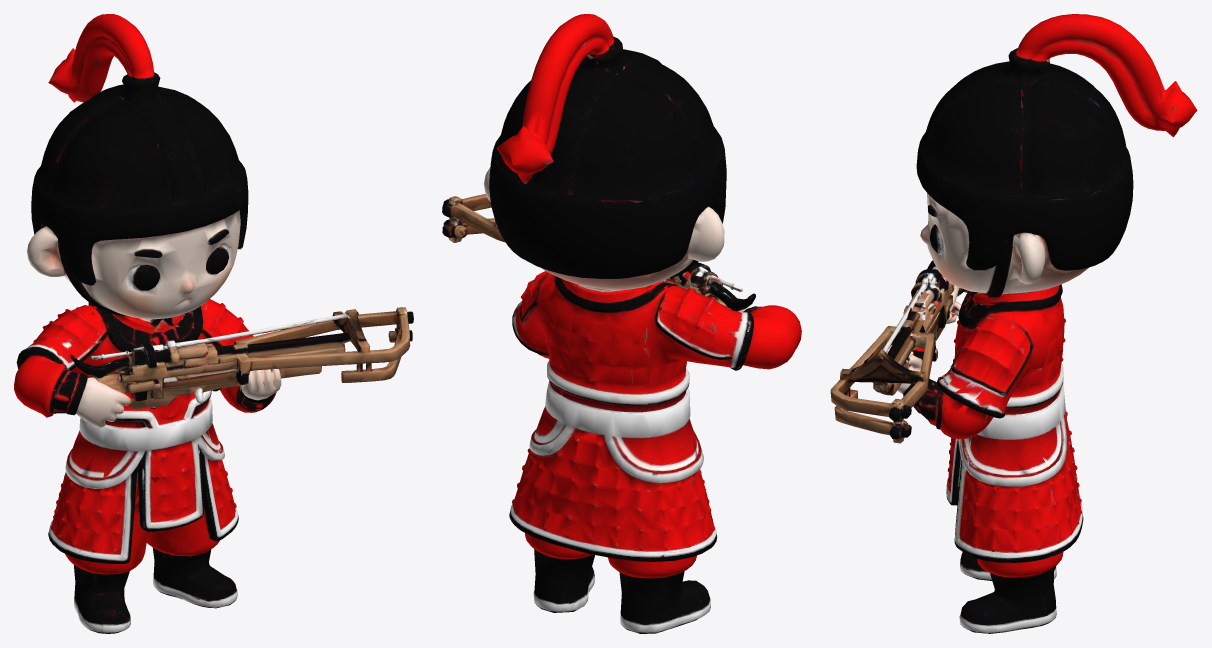
The model's file is crossbow.glb.
3 views of the same model, side by side, from view 1: azimuth 30°, elevation 25°; view 2: azimuth 150°, elevation 25°; view 3: azimuth 270°, elevation 25° (orthographic). The views are drawn at different scales.
Visible parts, largest first — view 1: crossbow; view 2: crossbow; view 3: crossbow.
Boxes of the visible parts, bbox=[...] form: crossbow: bbox=[14, 14, 413, 633]; crossbow: bbox=[442, 14, 801, 633]; crossbow: bbox=[830, 14, 1197, 633].
Size of the model in its own units: 0.669 by 1 by 0.5697.
1 material, 1 textured.
